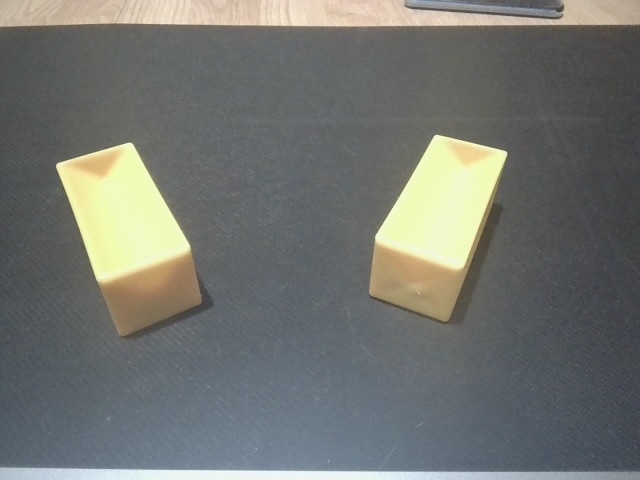YellowSample: (53, 138, 206, 341), (364, 130, 510, 326)
